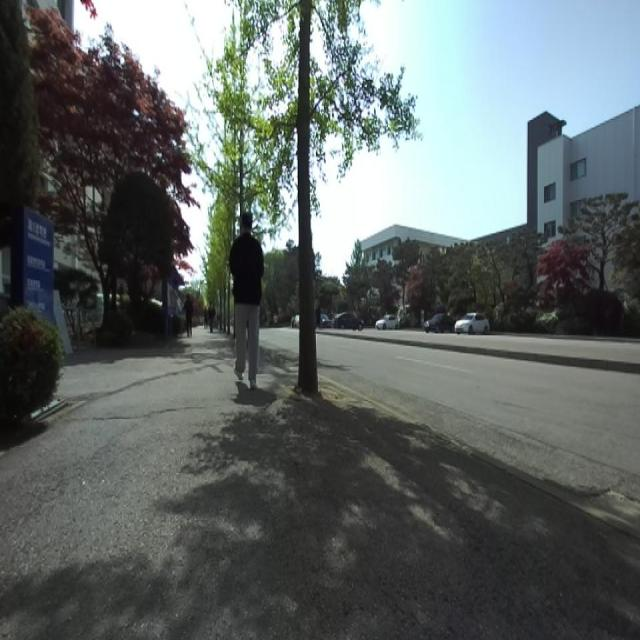sidewalk: (0, 329, 640, 638)
